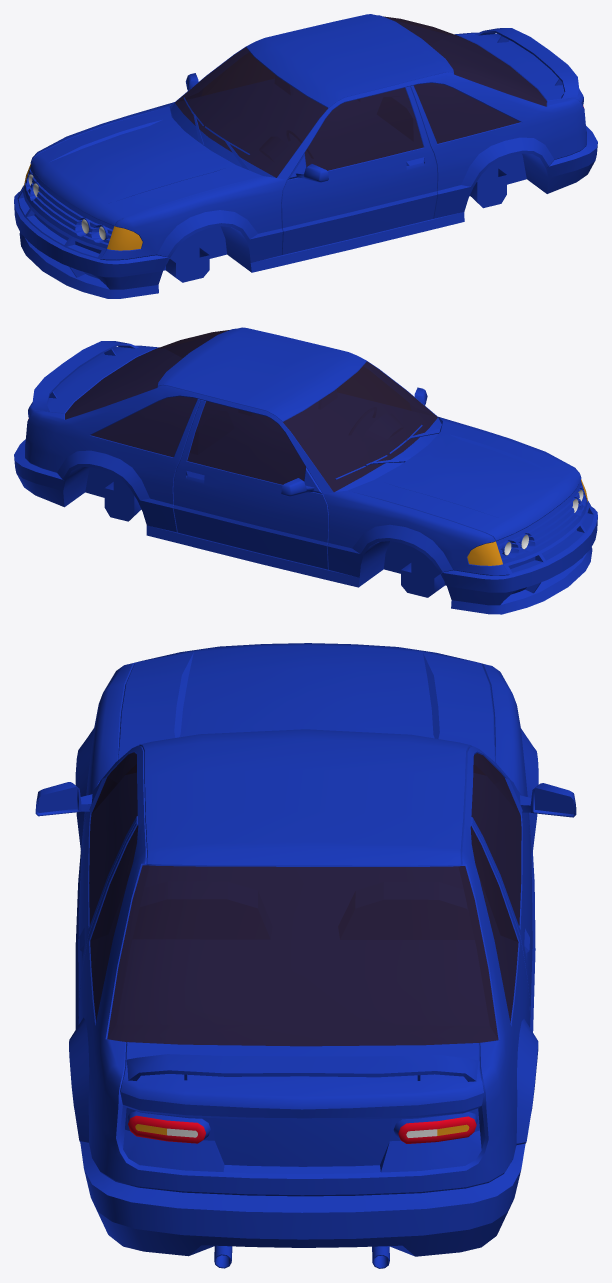
The model's file is car5.fbx.
The picture shows the model from 3 angles, top to bottom: view 1: azimuth 30°, elevation 25°; view 2: azimuth 150°, elevation 25°; view 3: azimuth 270°, elevation 25°; orthographic projection. The views are drawn at different scales.
Visible parts, largest first — view 1: Coupe Body_Body_0, Coupe Body_Glass_0, Coupe Body_Optics_0; view 2: Coupe Body_Body_0, Coupe Body_Glass_0, Coupe Body_Optics_0; view 3: Coupe Body_Body_0, Coupe Body_Glass_0, Coupe Body_Optics_0.
Part boxes in pixels (x1,y1,x2,y2): Coupe Body_Body_0: (14,14,597,298); Coupe Body_Glass_0: (175,16,546,177); Coupe Body_Optics_0: (24,105,583,250); Coupe Body_Body_0: (14,327,597,614); Coupe Body_Glass_0: (65,330,437,492); Coupe Body_Optics_0: (28,418,587,565); Coupe Body_Body_0: (35,643,576,1268); Coupe Body_Glass_0: (89,752,521,1046); Coupe Body_Optics_0: (128,1115,476,1143).
Size of the model in its own units: 4.24 by 1.88 by 1.16.
